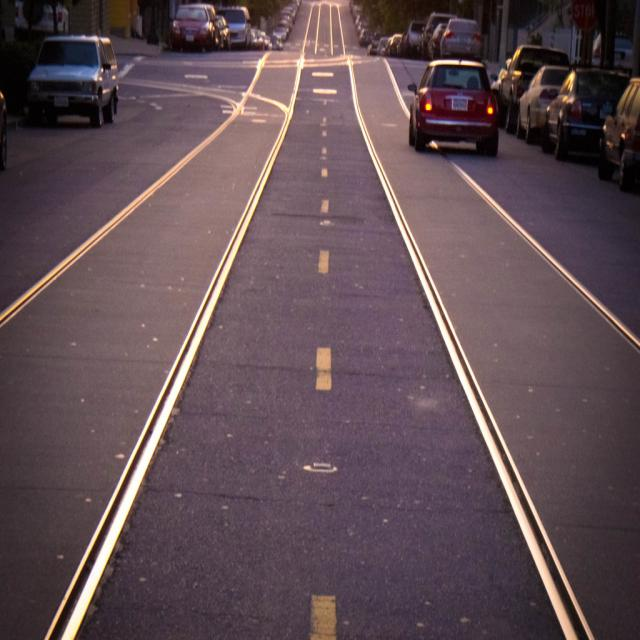car: (17, 17, 116, 111), (406, 57, 501, 151)
